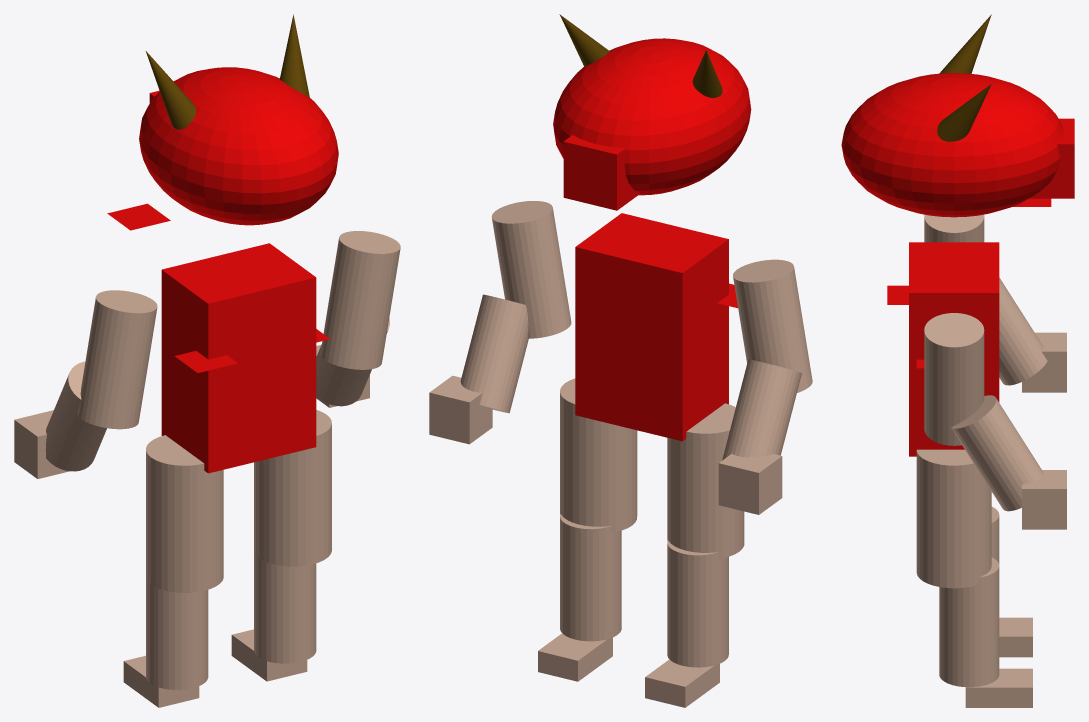
File: minotauro_manus.glb
3 renders of one model, left to right at view 1: azimuth 30°, elevation 25°; view 2: azimuth 150°, elevation 25°; view 3: azimuth 270°, elevation 25°, orthographic. The views are drawn at different scales.
Parts seen in each view (by area): view 1: Minotauro, Sangre_4, Sangre_2; view 2: Minotauro, Sangre_4; view 3: Minotauro, Sangre_2.
Boxes of the visible parts, <box> form: Minotauro: <box>14,14,400,707</box>; Sangre_4: <box>107,203,170,230</box>; Sangre_2: <box>174,351,237,372</box>; Minotauro: <box>429,14,812,707</box>; Sangre_4: <box>643,230,705,256</box>; Minotauro: <box>841,14,1074,707</box>; Sangre_2: <box>887,285,908,304</box>.
Bounding box in the file's own units: 2.46 × 4.58 × 1.55.
